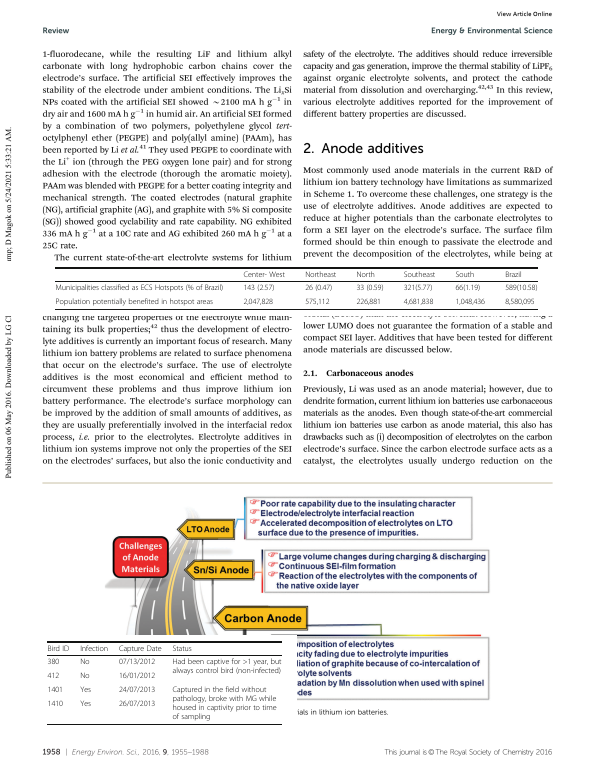borderless: (55, 266, 538, 309), (47, 640, 282, 724)
cell: (171, 685, 277, 722), (171, 657, 282, 676), (55, 283, 224, 293), (55, 297, 214, 307), (118, 644, 162, 653), (242, 270, 286, 279), (118, 657, 156, 667), (118, 671, 156, 681), (118, 685, 156, 695), (118, 699, 156, 709), (504, 283, 538, 293), (242, 283, 275, 293), (242, 297, 274, 307), (454, 297, 486, 307), (504, 297, 536, 307), (403, 297, 434, 307), (403, 283, 433, 293), (304, 270, 337, 279), (403, 270, 436, 279), (304, 283, 333, 293), (355, 283, 384, 293), (79, 644, 109, 653), (454, 283, 481, 293), (355, 297, 382, 307), (304, 297, 330, 307), (47, 644, 70, 653), (171, 644, 193, 653), (355, 270, 376, 279), (454, 270, 475, 279), (504, 270, 523, 279), (47, 685, 64, 695), (47, 699, 64, 709), (47, 657, 60, 667), (47, 671, 60, 681), (79, 685, 92, 695), (79, 699, 92, 709), (79, 657, 90, 667), (79, 671, 90, 681)
